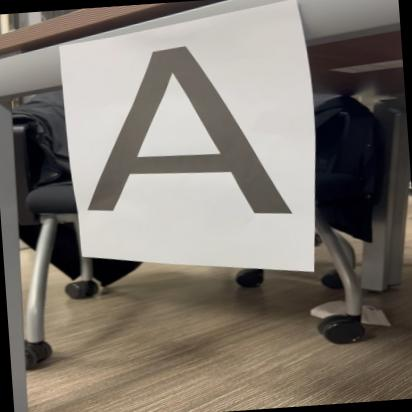seat: (75, 35, 302, 228)
